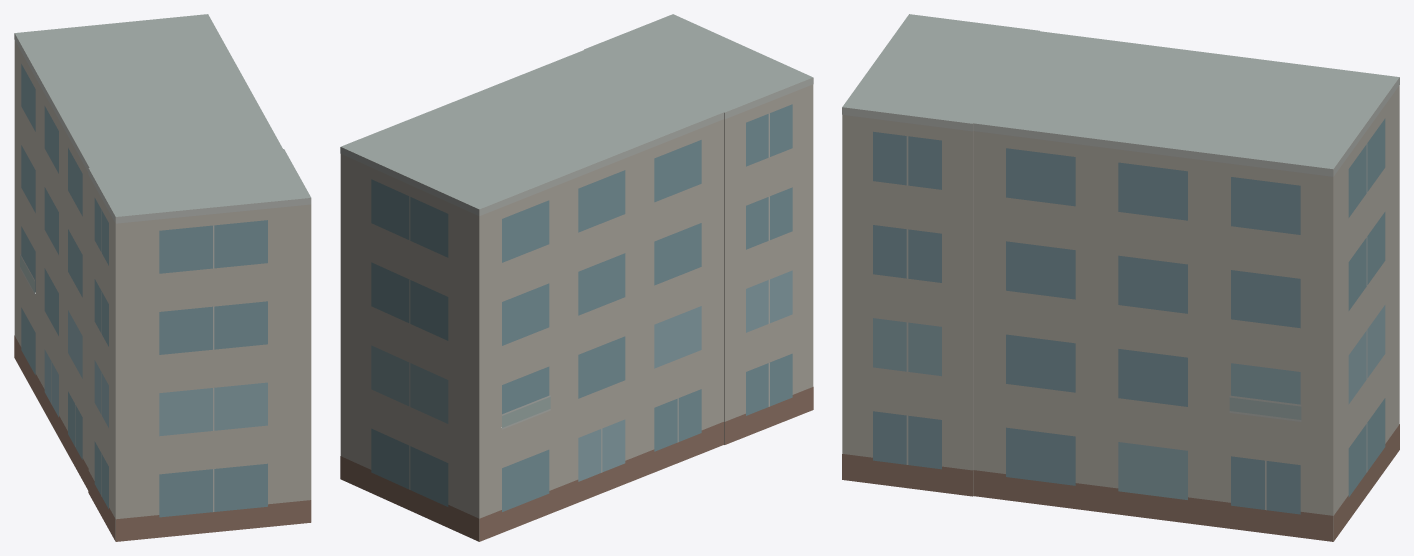
Rendered from survey-upis-32876093.glb.
3 renders of one model, left to right at view 1: azimuth 30°, elevation 25°; view 2: azimuth 150°, elevation 25°; view 3: azimuth 270°, elevation 25°, orthographic. The views are drawn at different scales.
Parts seen in each view (by area): view 1: survey-upis-32876093.tmp; view 2: survey-upis-32876093.tmp; view 3: survey-upis-32876093.tmp.
Boxes of the visible parts, x1=… form: survey-upis-32876093.tmp: x1=14, y1=14, x2=311, y2=541; survey-upis-32876093.tmp: x1=340, y1=14, x2=813, y2=541; survey-upis-32876093.tmp: x1=842, y1=14, x2=1399, y2=541.
Size of the model in its own units: 10.69 by 11.95 by 16.22.
